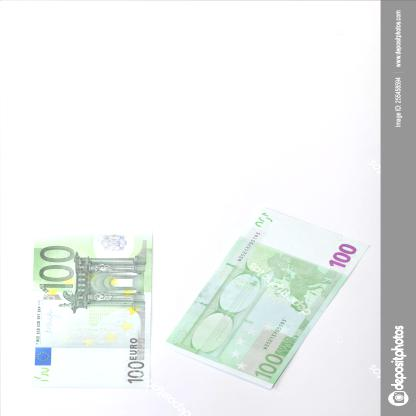euro_banknote: (172, 239, 365, 352), (14, 250, 172, 370)
